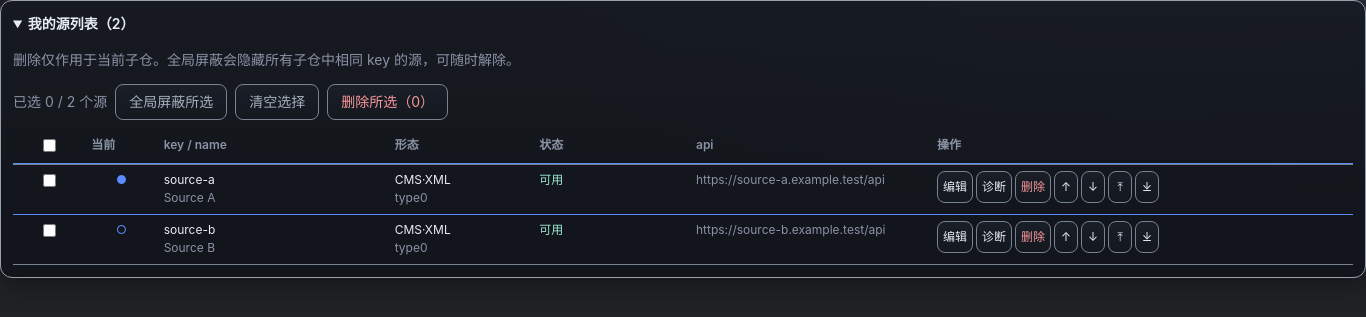
Test case: SourceManagementSection › reports a completed mutation separately when refreshing the list fails
Click the checkbox named "选择源 Source A" at (50, 180), box left=43, top=174, right=56, bottom=187
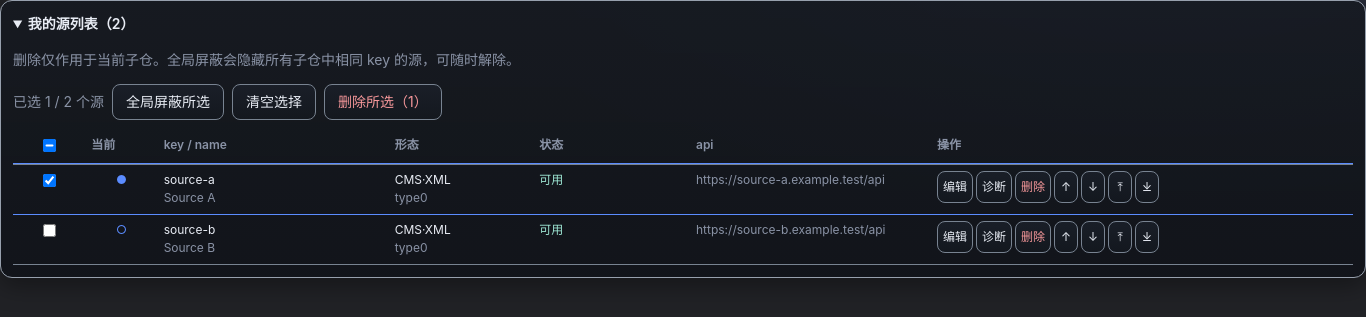
Click the button "删除所选（1）" at (383, 102), box left=324, top=84, right=442, bottom=120
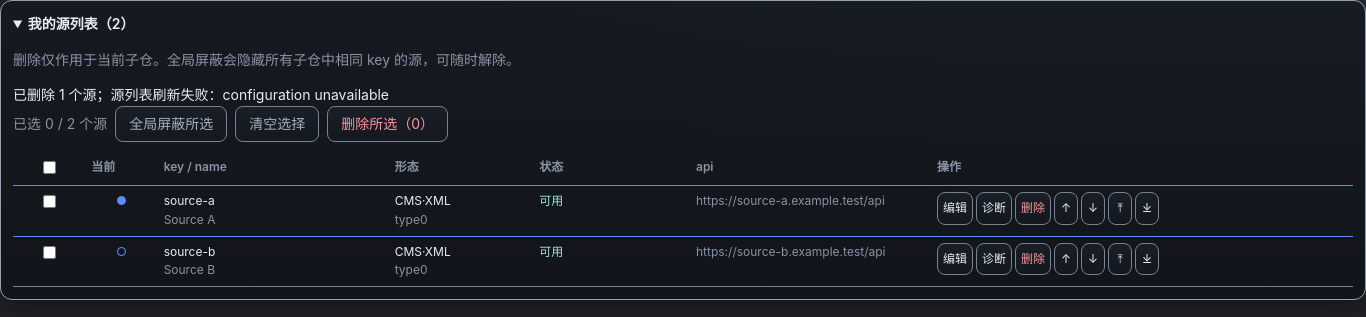
Now the text "已删除 1 个源；源列表刷新失败：configuration unavailable" is shown, box left=13, top=86, right=389, bottom=103
